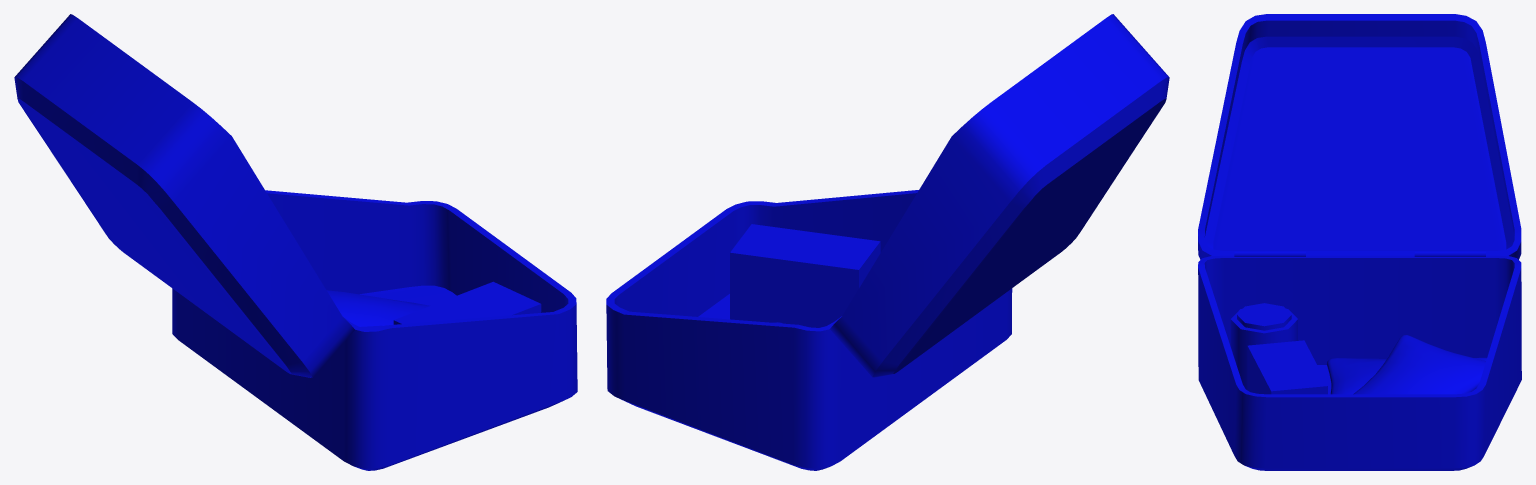
The model's file is MedBox_Open.FBX.
3 renders of one model, left to right at view 1: azimuth 30°, elevation 25°; view 2: azimuth 150°, elevation 25°; view 3: azimuth 270°, elevation 25°, orthographic. The views are drawn at different scales.
Parts seen in each view (by area): view 1: Medbox_Low_Open; view 2: Medbox_Low_Open; view 3: Medbox_Low_Open.
Part boxes in pixels (x1,y1,x2,y2): Medbox_Low_Open: [14, 14, 577, 470]; Medbox_Low_Open: [606, 14, 1169, 470]; Medbox_Low_Open: [1198, 14, 1521, 470].
Bounding box in the file's own units: 8.75 × 7.31 × 6.89.
